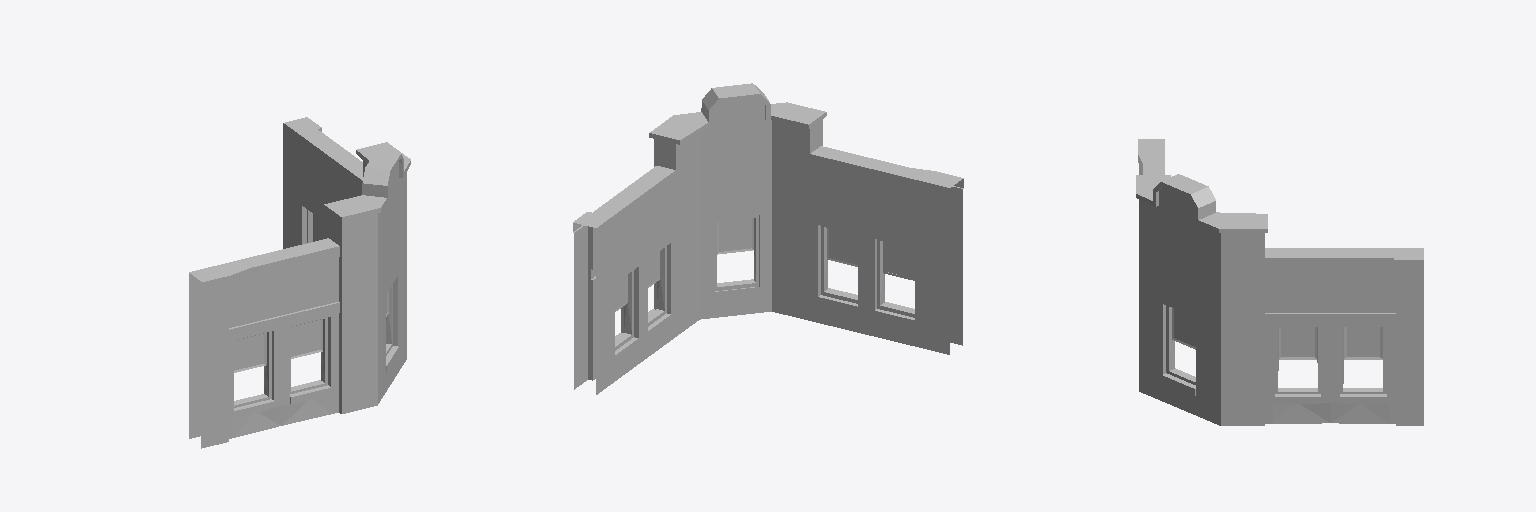
File: Building_Top_Corner_B_LOD1.obj
The picture shows the model from 3 angles: view 1: azimuth 30°, elevation 25°; view 2: azimuth 150°, elevation 25°; view 3: azimuth 270°, elevation 25°; orthographic projection.
Parts seen in each view (by area): view 1: Building_Top_Corner_B_LOD1 Building_Top_Corner_B; view 2: Building_Top_Corner_B_LOD1 Building_Top_Corner_B; view 3: Building_Top_Corner_B_LOD1 Building_Top_Corner_B.
Boxes of the visible parts, <box> form: Building_Top_Corner_B_LOD1 Building_Top_Corner_B: <box>189,117,410,448</box>; Building_Top_Corner_B_LOD1 Building_Top_Corner_B: <box>573,83,963,394</box>; Building_Top_Corner_B_LOD1 Building_Top_Corner_B: <box>1136,139,1423,425</box>.
Bounding box in the file's own units: 709 × 601 × 709.